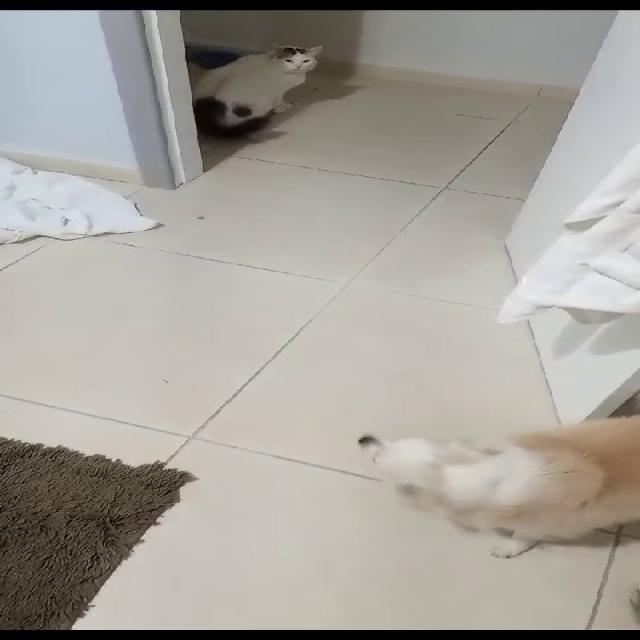Simba: (202, 36, 340, 149)
Theo: (350, 394, 639, 557)
